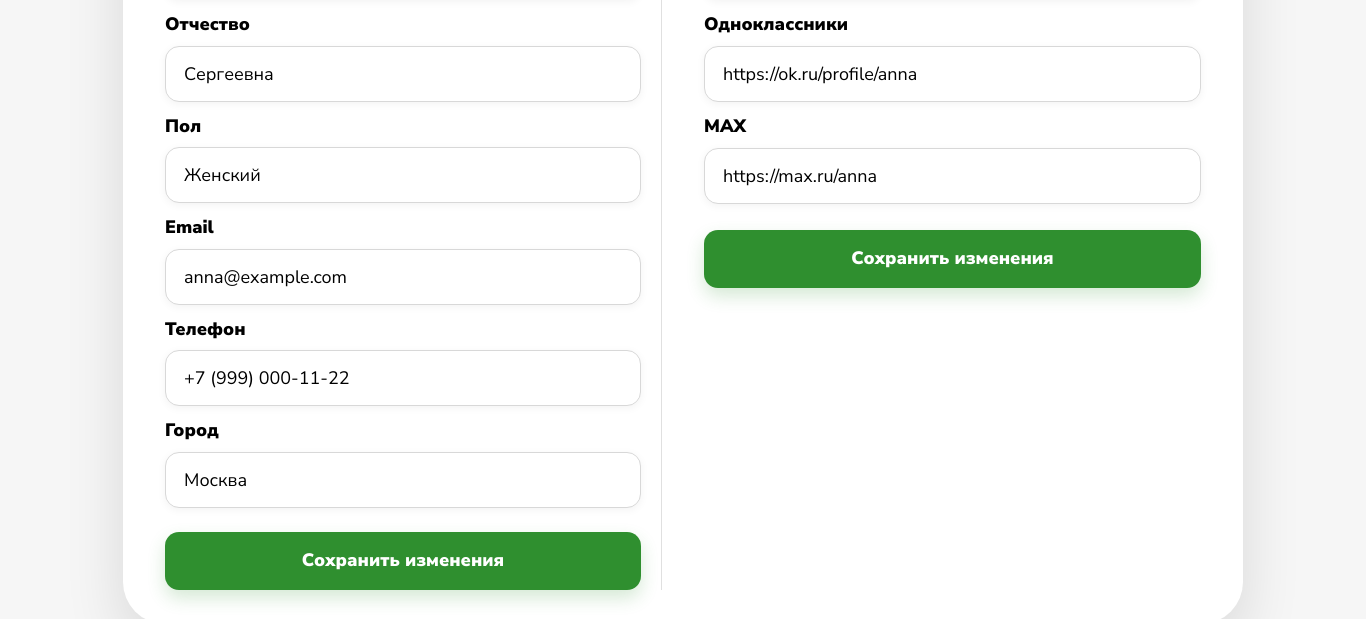
Test: ProfileSettings › shows update error from api
(page scrolled)
Replace the text in the field labelled "Телефон" with "89991234567" at point(403, 378), box [165,350,641,406]
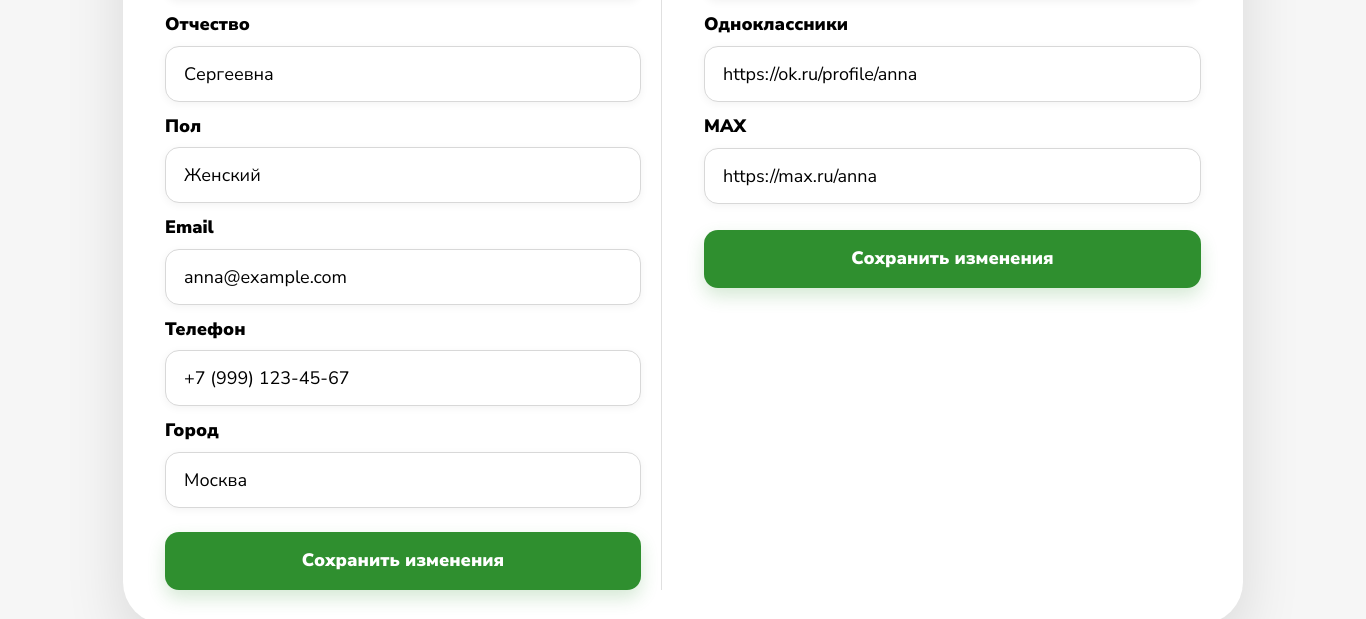
Click the button "Сохранить изменения" below "Город" at point(403, 561), box [165,532,641,590]
(page scrolled)
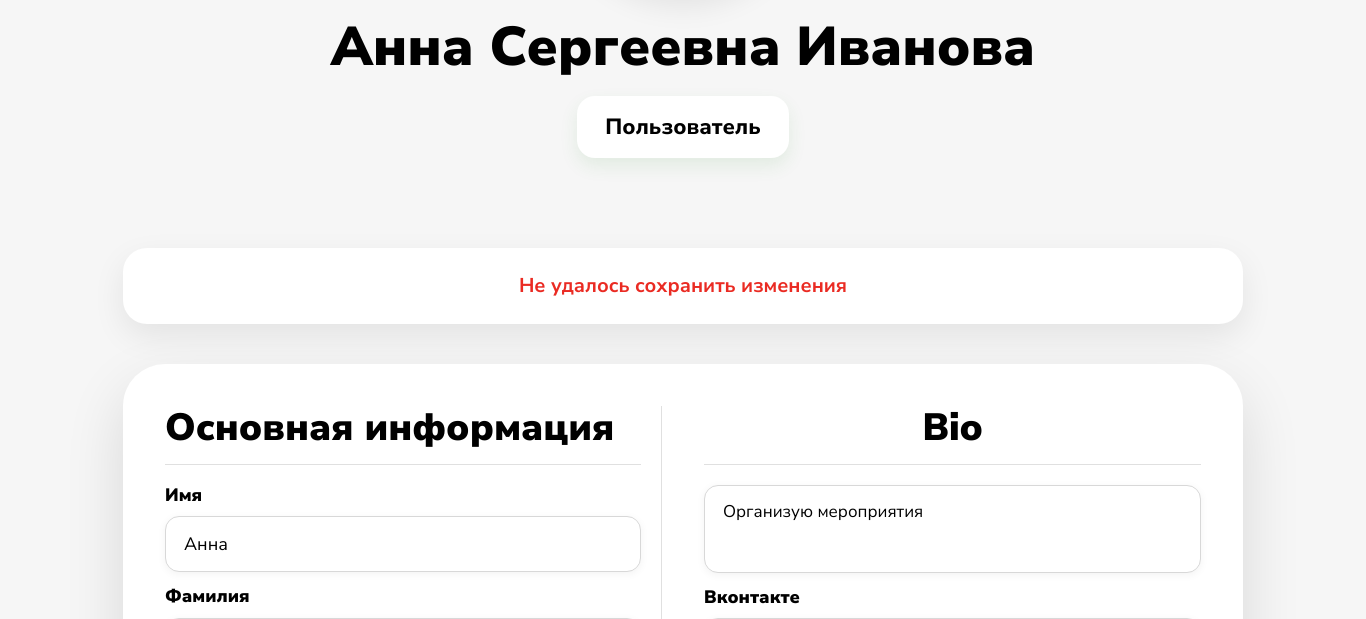
Expected: the text "Не удалось сохранить изменения" is shown, [123,248,1243,324]
